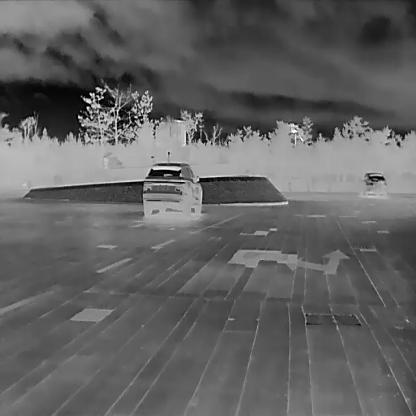car: (141, 162, 202, 215), (363, 173, 387, 198)
